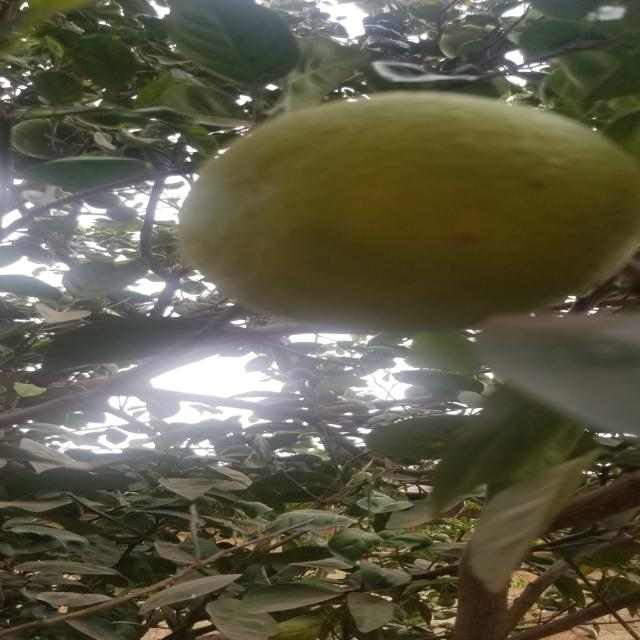Unripe: (170, 86, 640, 341)
